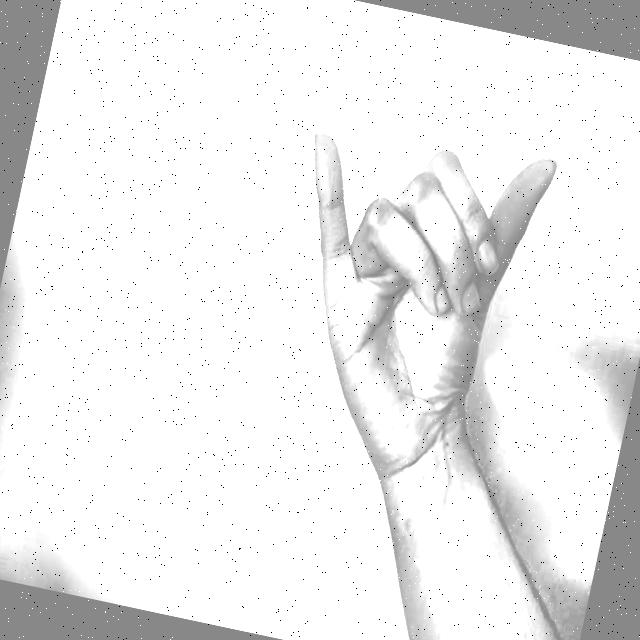Oi: (227, 72, 575, 508)
